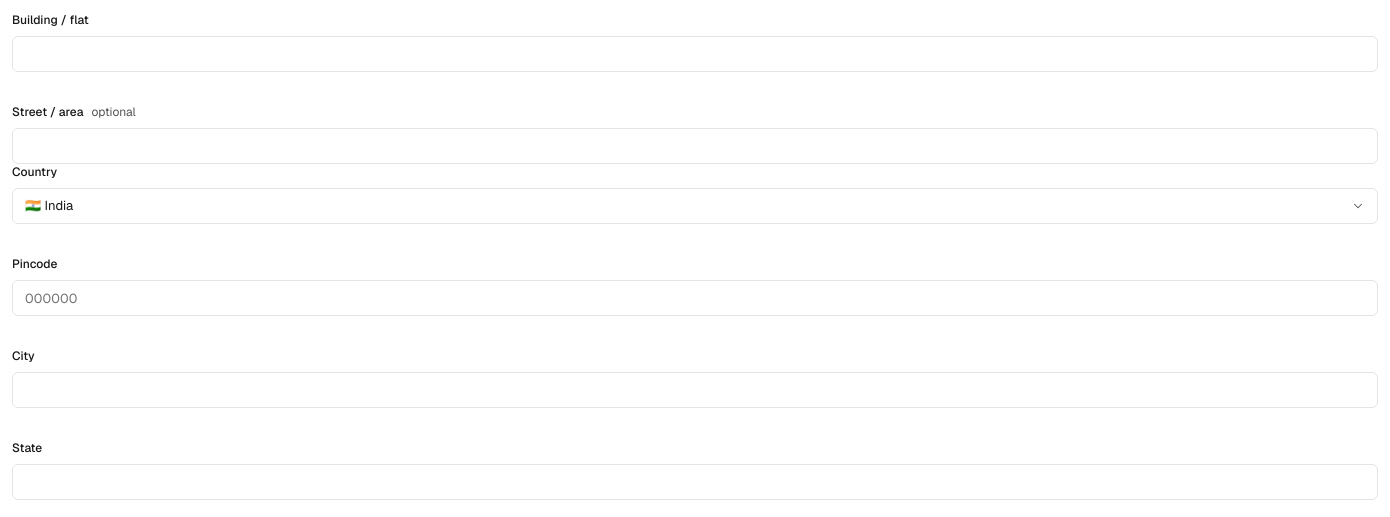
Test: AddressFields › never overwrites a city the user already typed
Step 1. Type "My Town" into the field labelled "City" → (695, 390), box [12,372,1378,408]
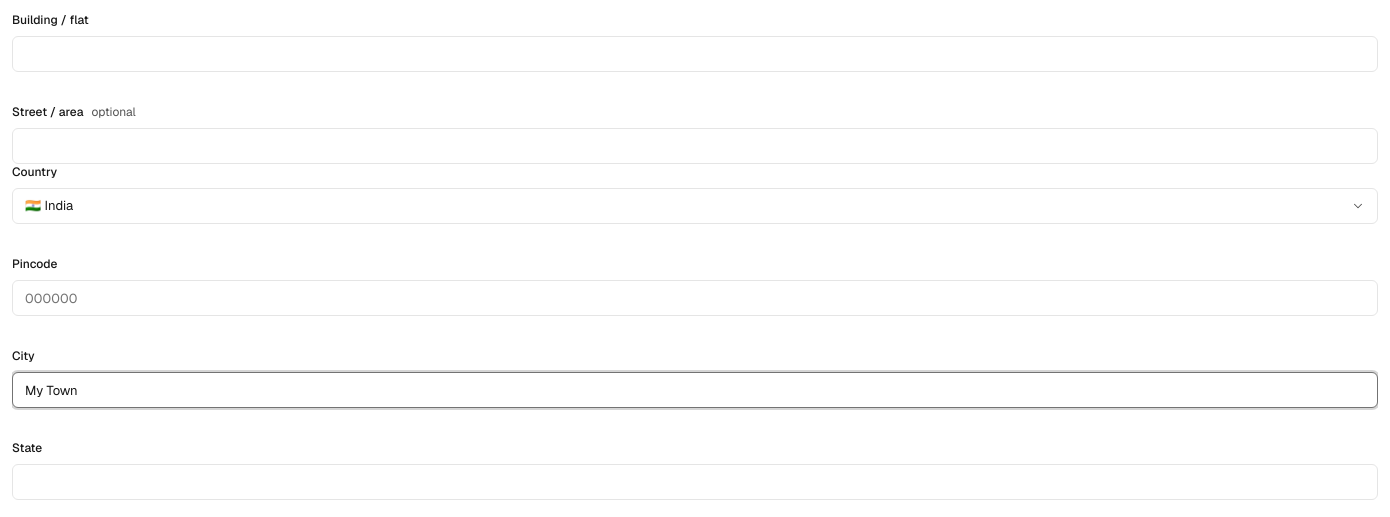
Step 2. Type "201017" into the field labelled "Pincode" → (695, 298), box [12,280,1378,316]
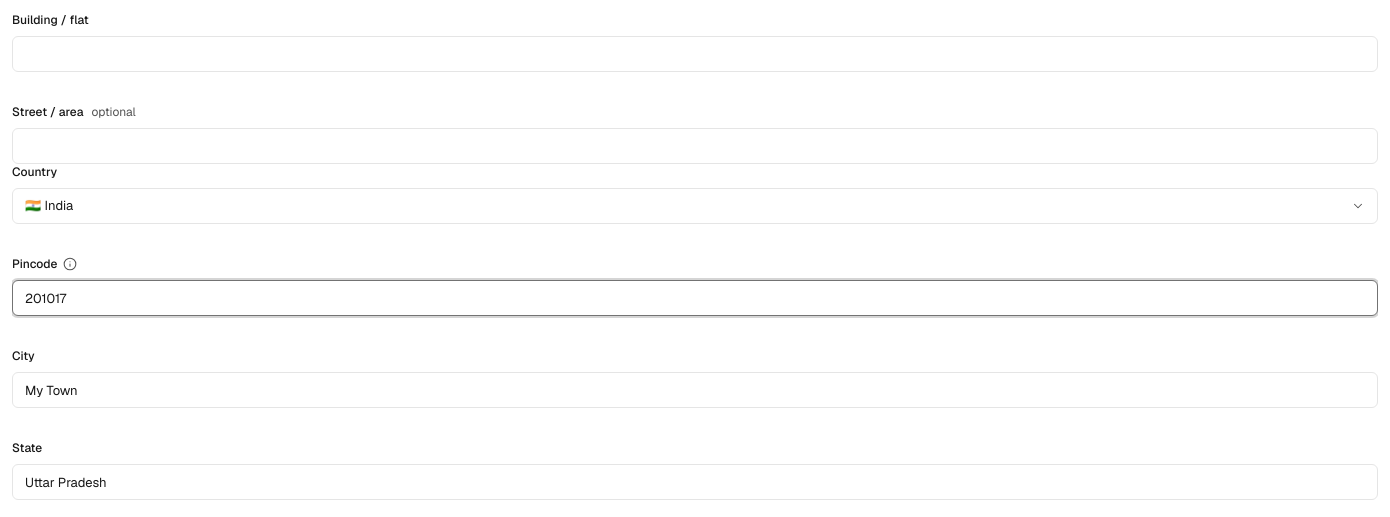
Expected: the field labelled "State" holds "Uttar Pradesh", [12,464,1378,500]
